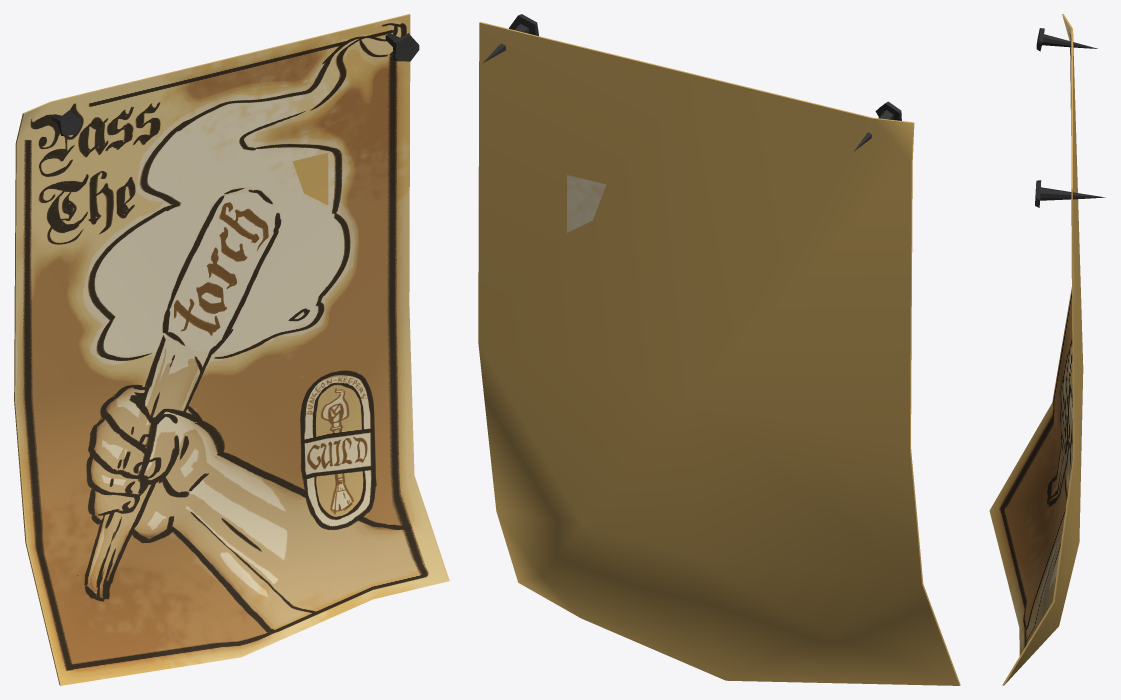
The model's file is poster03.fbx.
3 renders of one model, left to right at view 1: azimuth 30°, elevation 25°; view 2: azimuth 150°, elevation 25°; view 3: azimuth 270°, elevation 25°, orthographic. The views are drawn at different scales.
Visible parts, largest first — view 1: poster03, p3nail01; view 2: poster03; view 3: poster03, p3nail01, p3nail02.
Part boxes in pixels (<box>): poster03: <box>14,14,449,685</box>; p3nail01: <box>385,33,419,61</box>; poster03: <box>478,22,960,685</box>; poster03: <box>989,14,1083,685</box>; p3nail01: <box>1035,180,1105,207</box>; p3nail02: <box>1036,28,1097,51</box>.
Bounding box in the file's own units: 26.66 × 37 × 7.42.
